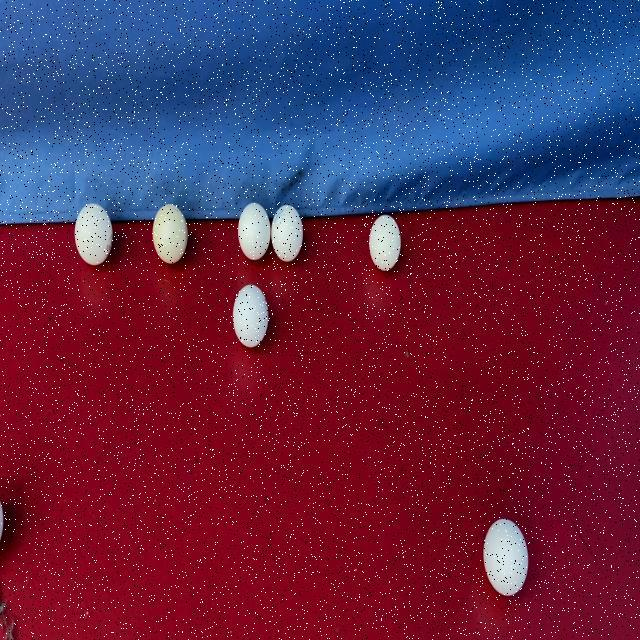ping-pong-ball: (481, 516, 531, 598), (73, 201, 115, 270), (230, 282, 270, 350), (152, 200, 190, 266), (235, 200, 271, 268), (270, 200, 306, 264), (367, 214, 403, 272)
